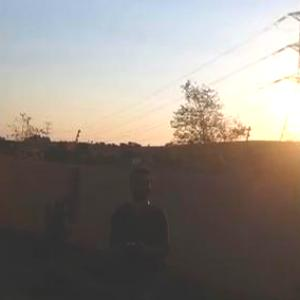follow: (100, 155, 174, 299)
